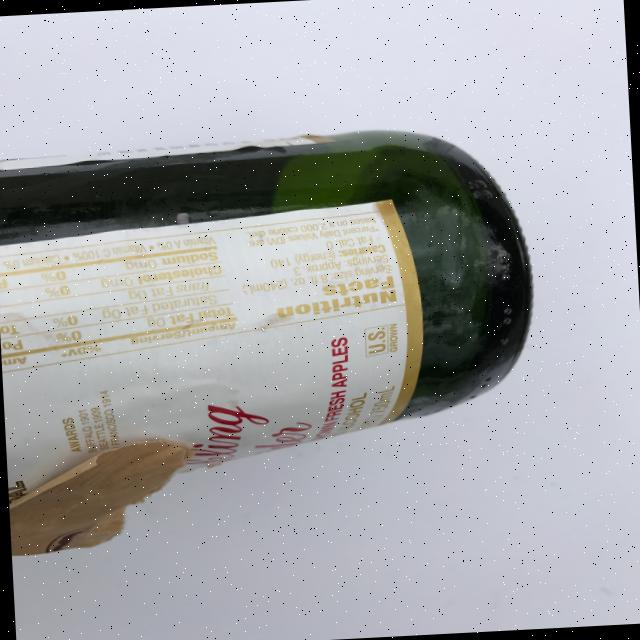glass: (0, 121, 546, 554)
